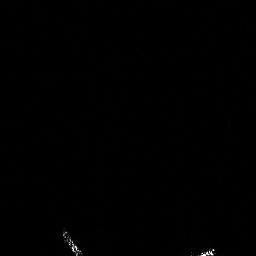ship: (62, 230, 81, 256)
